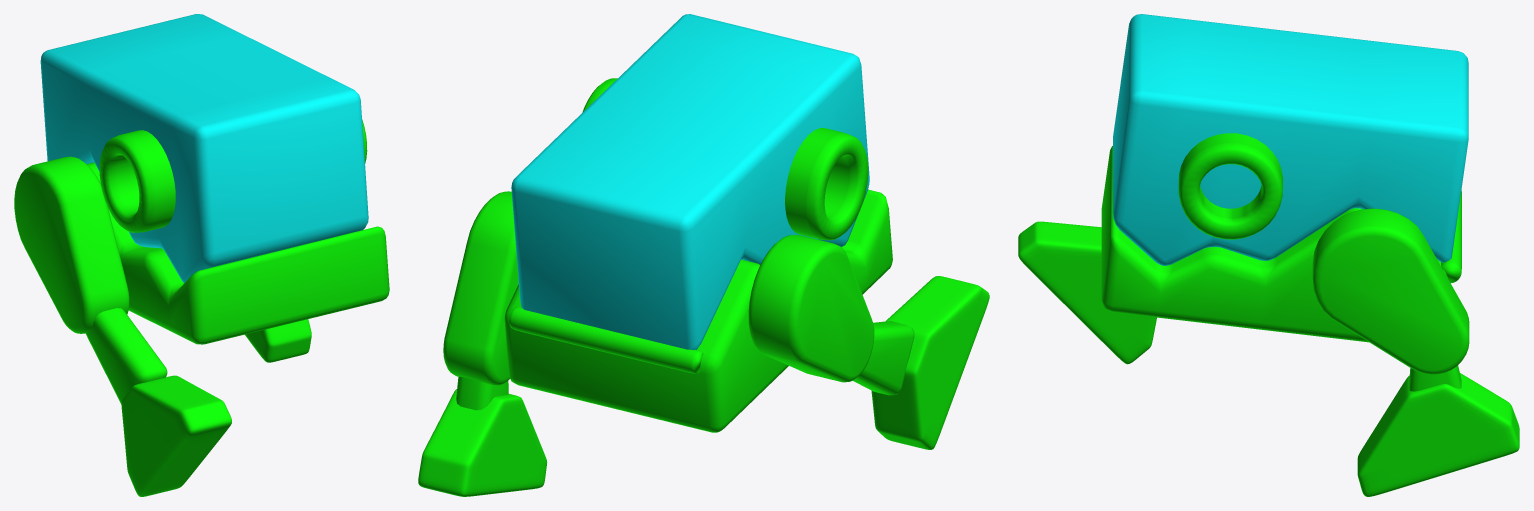
3 renders of one model, left to right at view 1: azimuth 30°, elevation 25°; view 2: azimuth 150°, elevation 25°; view 3: azimuth 270°, elevation 25°, orthographic. The views are drawn at different scales.
Visible parts, largest first — view 1: Top_Jaw, Lower_Jaw, Thighs_Left, Feet_Left, Eyes, Shin_Left, Feet_Right; view 2: Top_Jaw, Lower_Jaw, Thighs_Left, Feet_Left, Feet_Right, Thighs_Right, Eyes, Hinge, Shin_Left, Shin_Right; view 3: Top_Jaw, Thighs_Right, Lower_Jaw, Feet_Right, Feet_Left, Eyes, Shin_Right, Hinge.
Boxes of the visible parts, x1,y1,x2,y2 form: Top_Jaw: (40,14,368,282); Lower_Jaw: (87,162,389,344); Thighs_Left: (14,156,129,333); Feet_Left: (121,375,231,496); Eyes: (99,119,367,232); Shin_Left: (85,308,167,403); Feet_Right: (245,319,311,362); Top_Jaw: (511,14,869,349); Lower_Jaw: (504,189,892,432); Thighs_Left: (748,235,874,382); Feet_Left: (871,276,989,449); Feet_Right: (418,389,547,496); Thighs_Right: (443,191,518,385); Eyes: (582,78,868,240); Hinge: (509,307,703,373); Shin_Left: (853,321,914,395); Shin_Right: (456,376,508,410); Top_Jaw: (1113,14,1468,265); Thighs_Right: (1312,208,1469,374); Lower_Jaw: (1101,146,1447,342); Feet_Right: (1357,373,1519,496); Feet_Left: (1018,221,1156,364); Eyes: (1178,133,1282,239); Shin_Right: (1409,365,1461,391); Hinge: (1441,190,1461,282).
Bounding box in the file's own units: 2.03 × 2.41 × 2.92.
